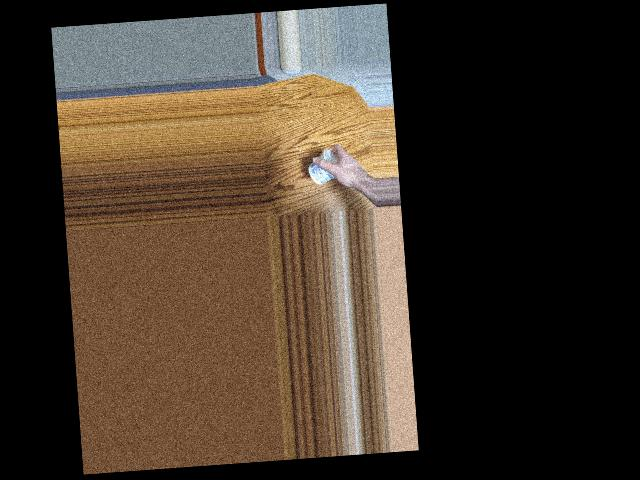cotage: (306, 148, 341, 187)
